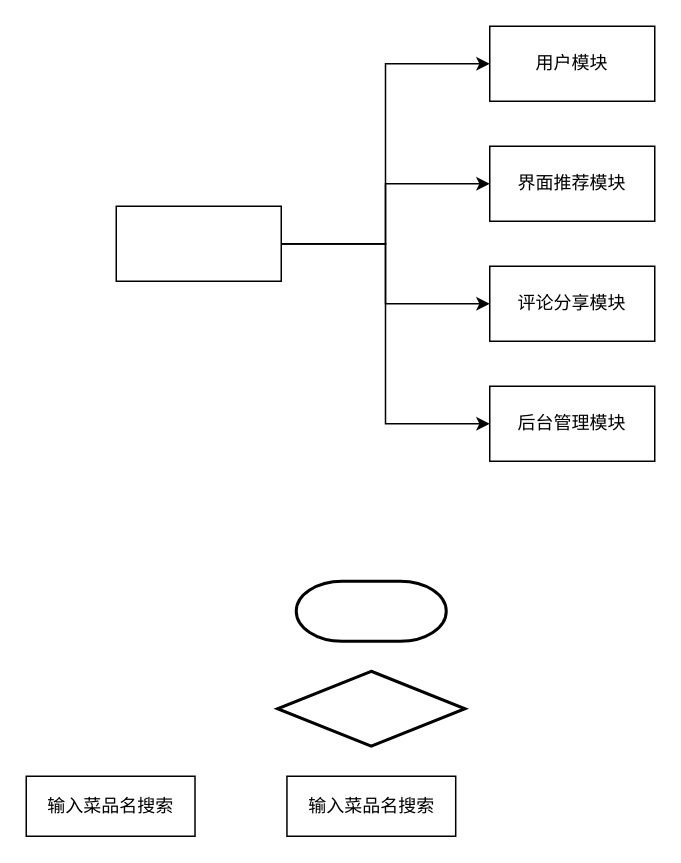
The diagram is 681 pixels wide and 863 high, and some of its shapes have lost their labels. Each missing label, with the centre of its shape:
"使用搜索框查询" goes at pixel 370 708.
"开始" goes at pixel 370 610.
"餐饮推荐系统" goes at pixel 198 243.
